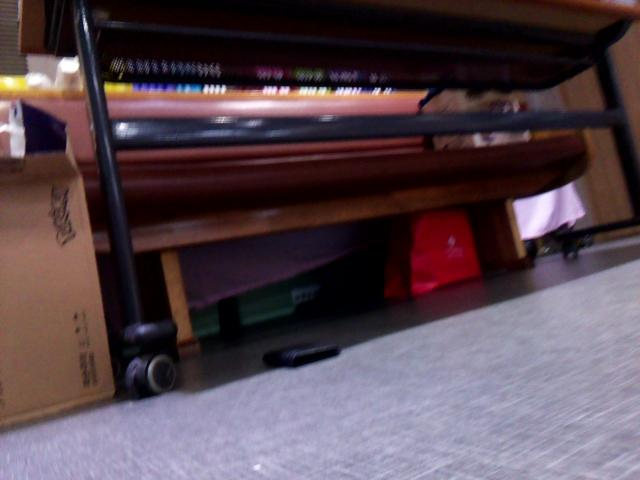wallet: (255, 337, 351, 370)
